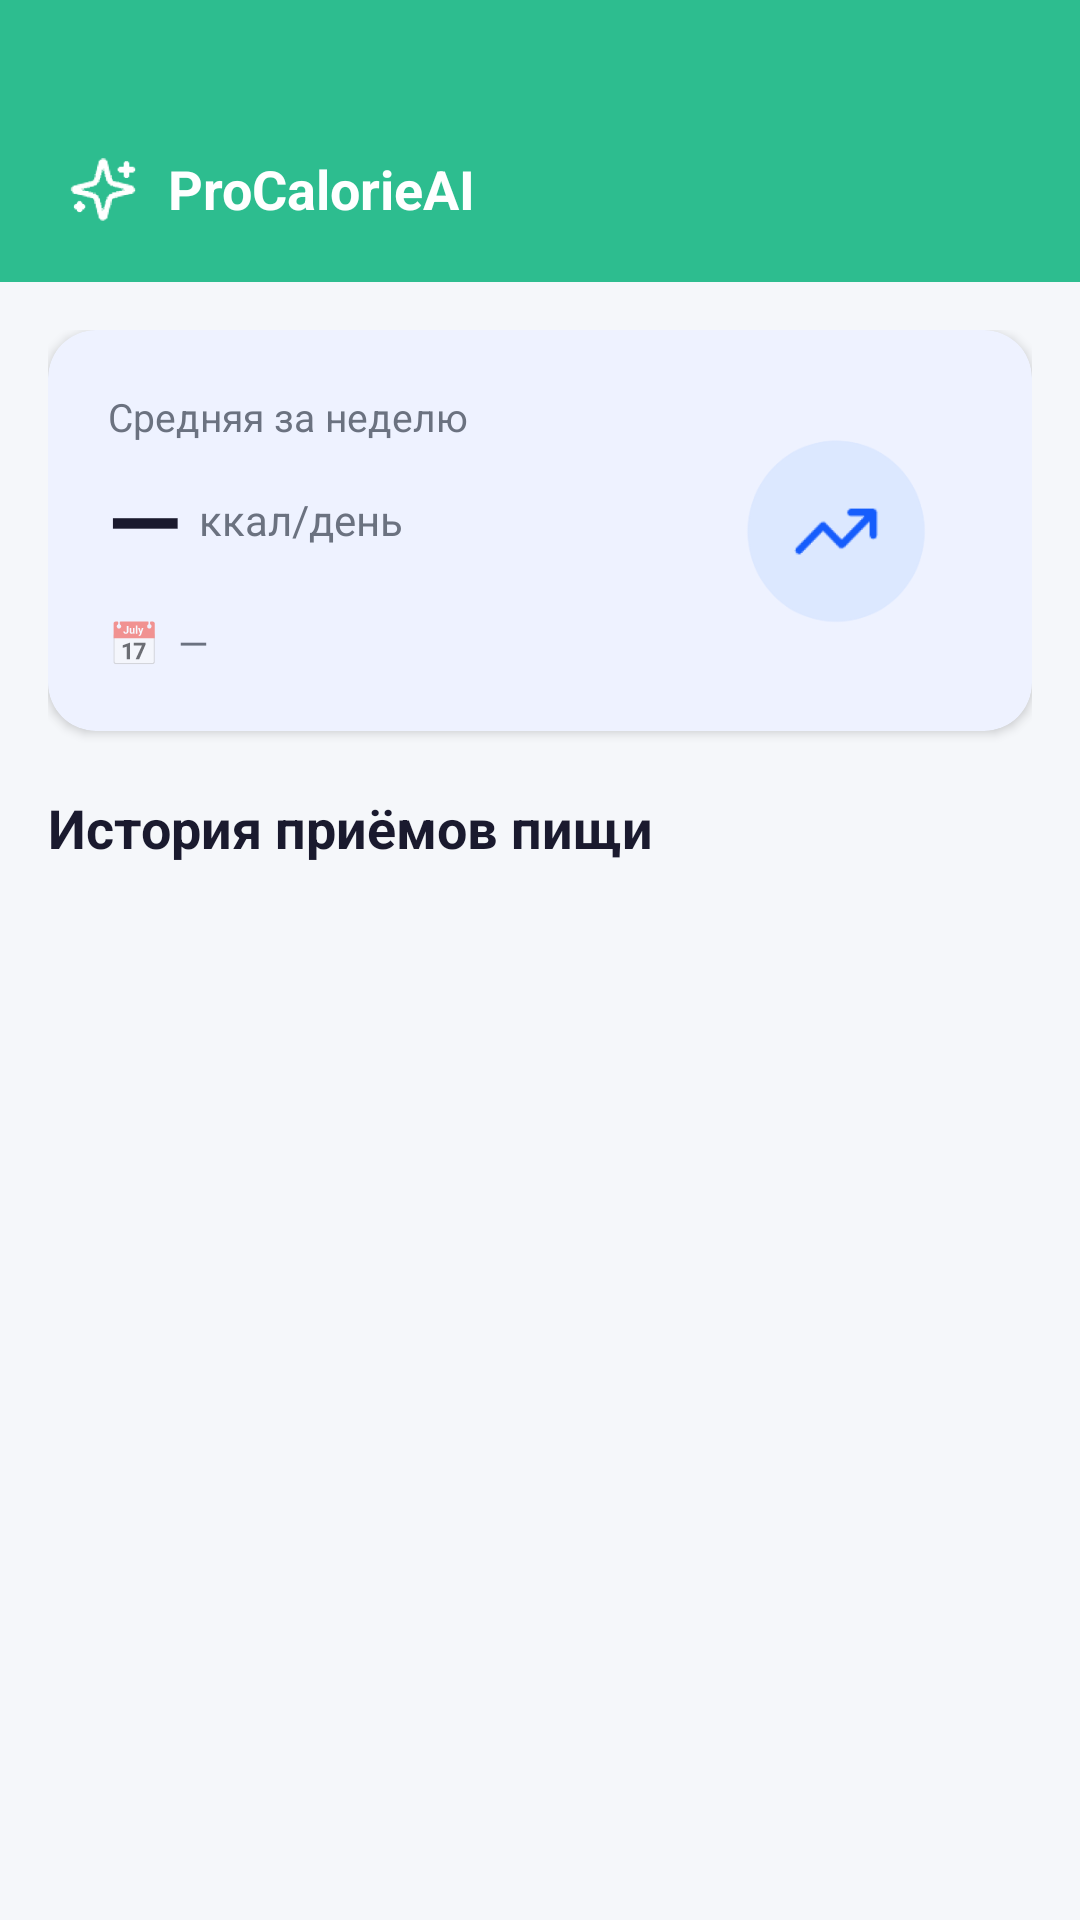

Icon click points for this 1080*1920 phone screenshot, format (x,y):
grafic: (836,531)
zvezda: (103,189)
